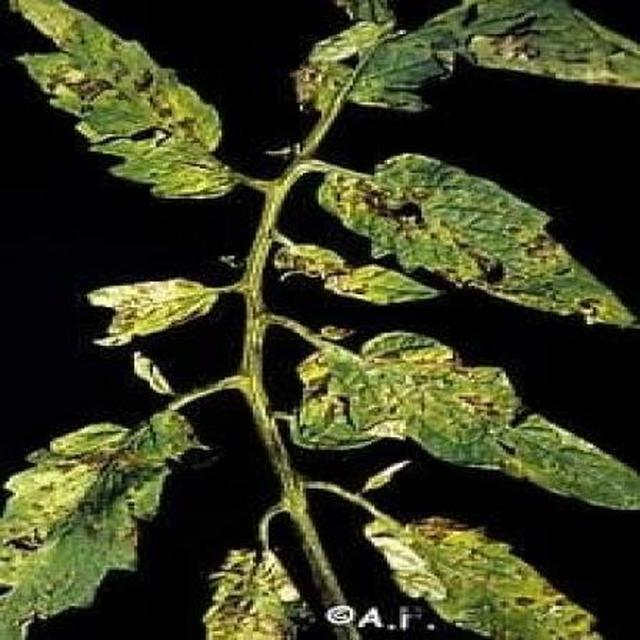Septoria Leaf: (134, 81, 640, 640)
